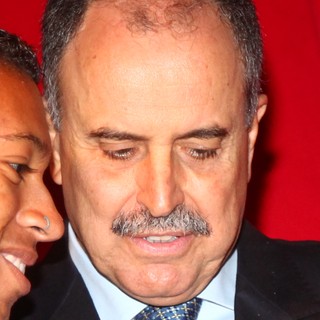eye: (96, 139, 142, 165), (176, 141, 223, 164)
